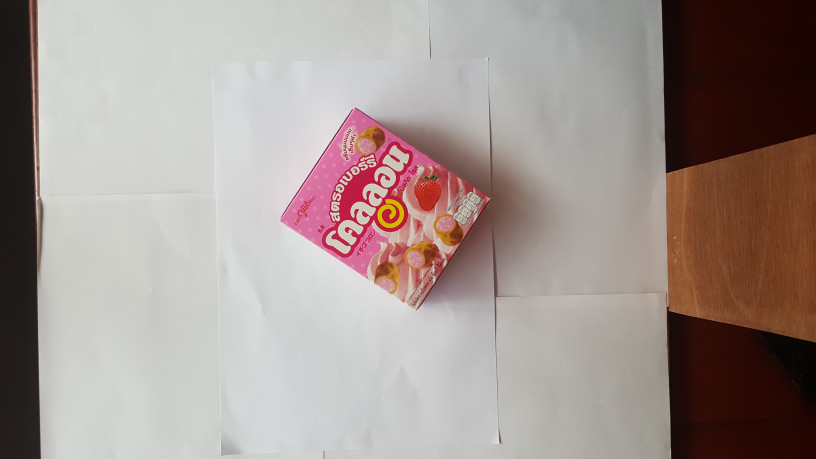collon-strawberry: (274, 105, 493, 312)
